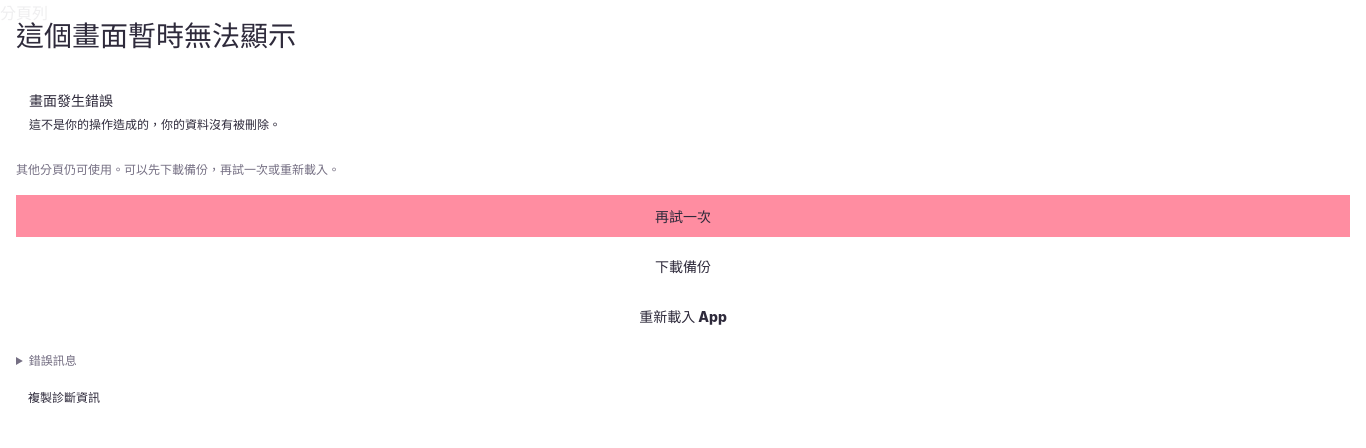
Scenario: ErrorBoundary with the screen fallback › 下載備份 starts the download and says what the file leaves out (0 attachments)
What coordinates should you click on to do the following:
click the button "下載備份"
I would click on:
 (683, 266)
Its box is x1=16 y1=245 x2=1350 y2=287.
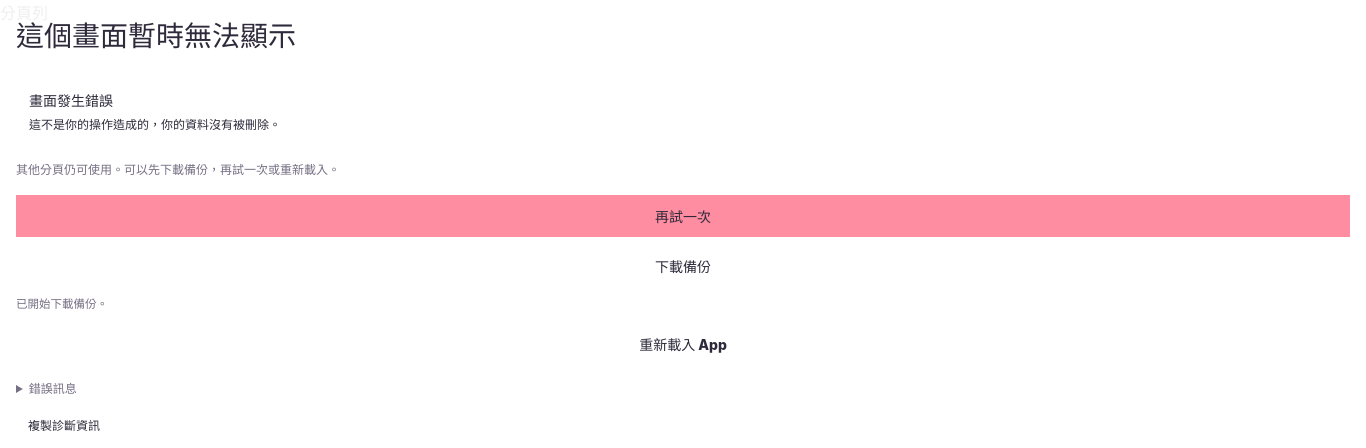
Expected: the heading "這個畫面暫時無法顯示" is shown, x1=16 y1=19 x2=296 y2=53
Expected: the message "已開始下載備份。" is shown, x1=16 y1=297 x2=108 y2=311
